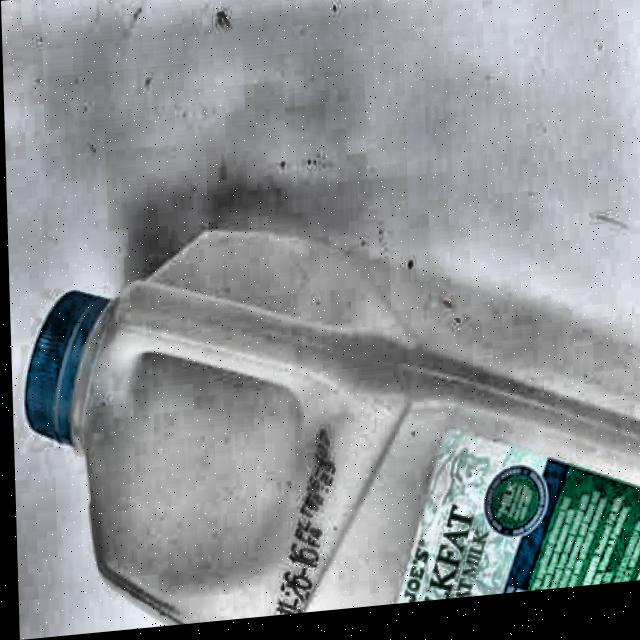plastic: (17, 186, 640, 639)
